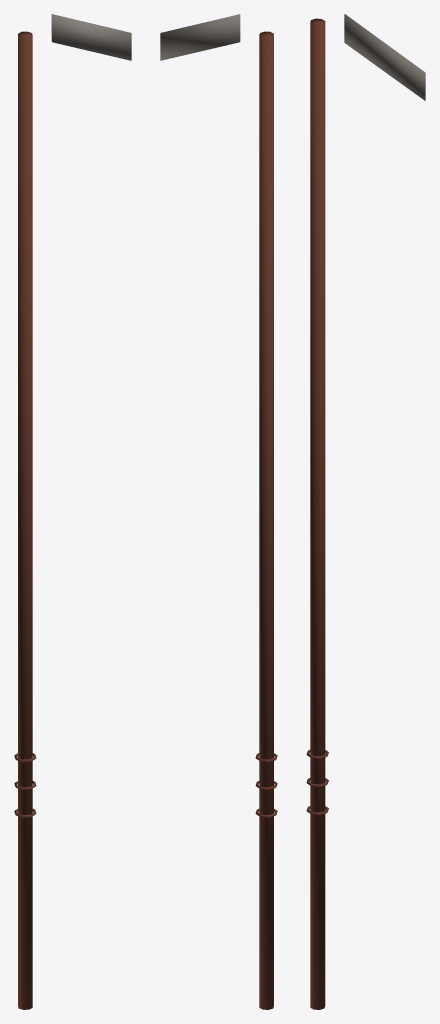
File: scythe.glb
3 renders of one model, left to right at view 1: azimuth 30°, elevation 25°; view 2: azimuth 150°, elevation 25°; view 3: azimuth 330°, elevation 25°, orthographic.
Visible parts, largest first — view 1: scythe; view 2: scythe; view 3: scythe.
Part boxes in pixels (x1,y1,x2,y2): scythe: (14,14,131,1009); scythe: (160,14,277,1009); scythe: (306,14,425,1009).
Size of the model in its own units: 0.175 by 1.42 by 0.03.
Materials: 2 (1 with a texture image).
